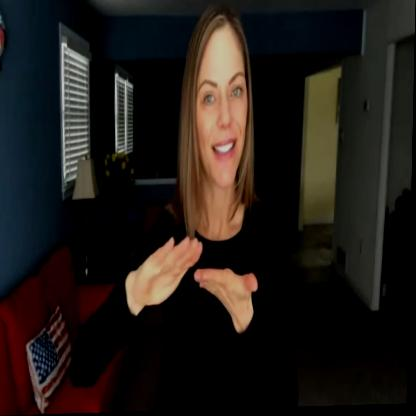NiceToMeetYou: (69, 5, 308, 414)
